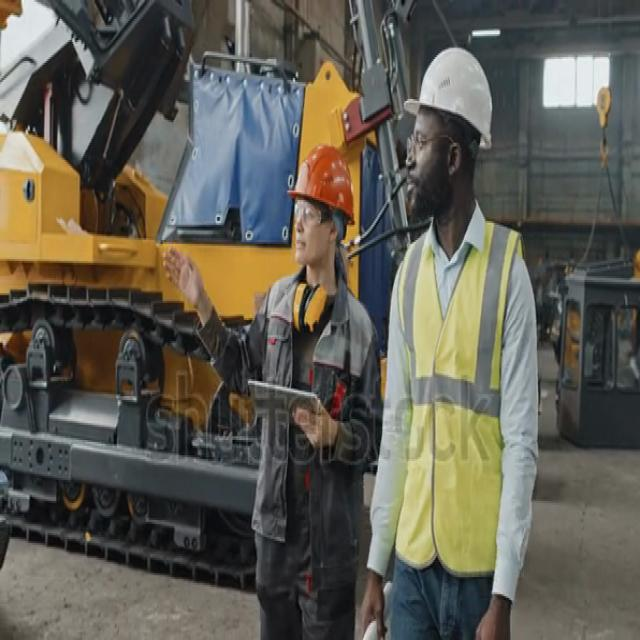goggles: (402, 127, 450, 165), (292, 198, 336, 234)
